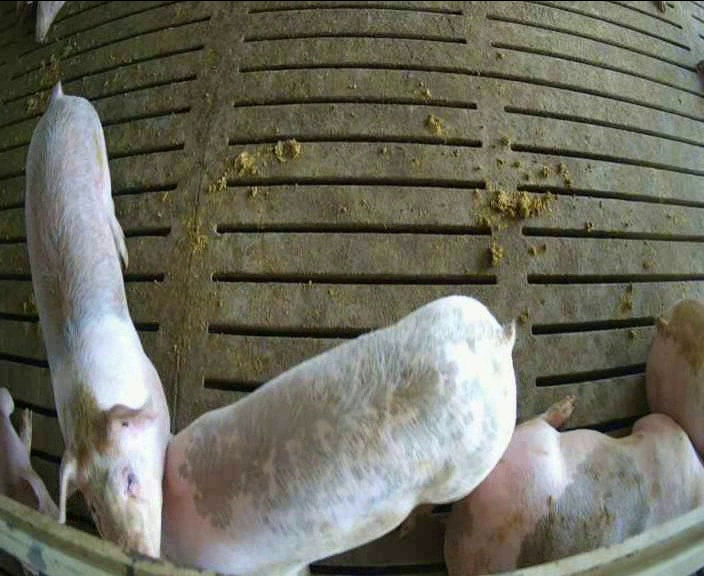pig: (165, 299, 515, 573), (26, 83, 168, 557), (445, 394, 703, 573)
